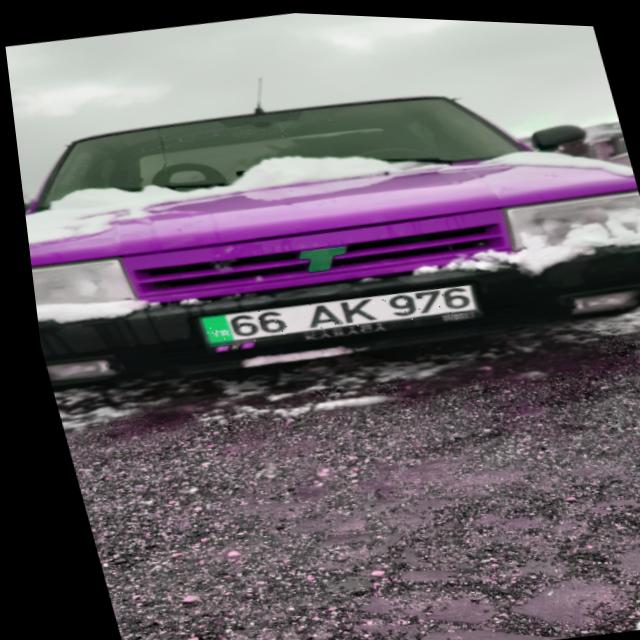license_plate: (186, 272, 477, 356)
